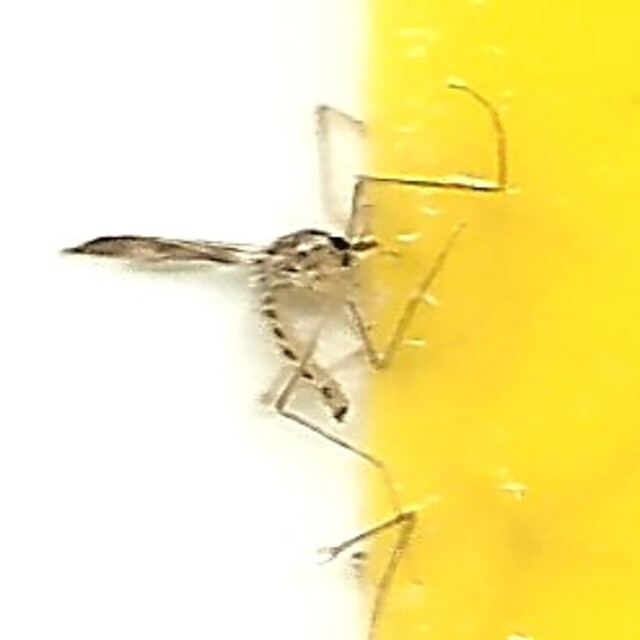Nematocera: (259, 215, 381, 425)
